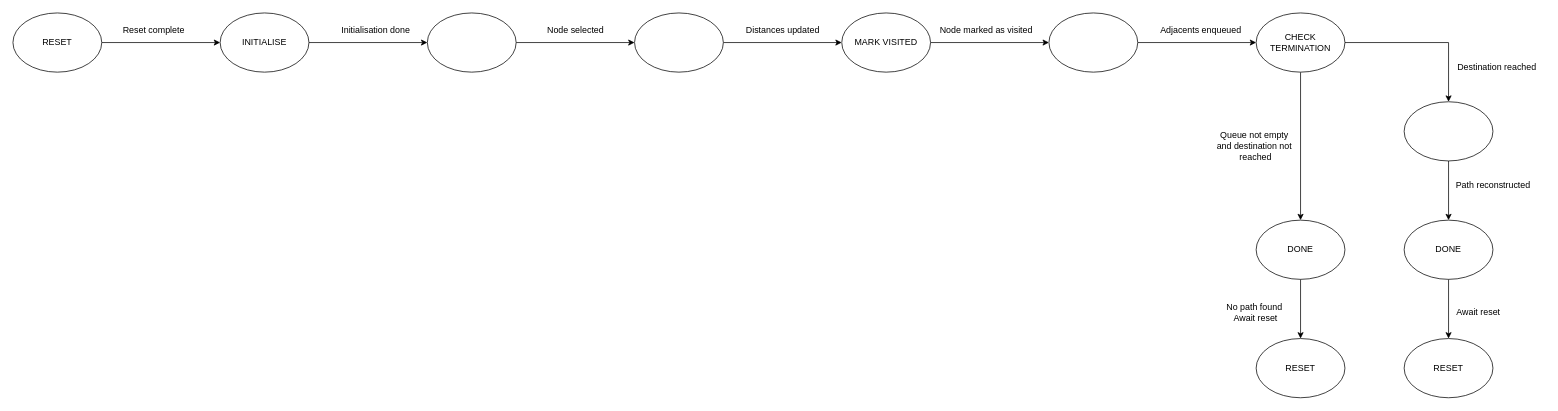
The diagram is 1558 pixels wide and 411 high, and some of its shapes have lost their labels. The centre of each missing label's shape, as x and y in pixels:
"ENQUE ADJACENTS" belongs at point 1093,42.
"RECONSTRUCT PATH" belongs at point 1448,131.
"SELECT NODE" belongs at point 471,42.
"UPDATE DISTANCES" belongs at point 678,42.
